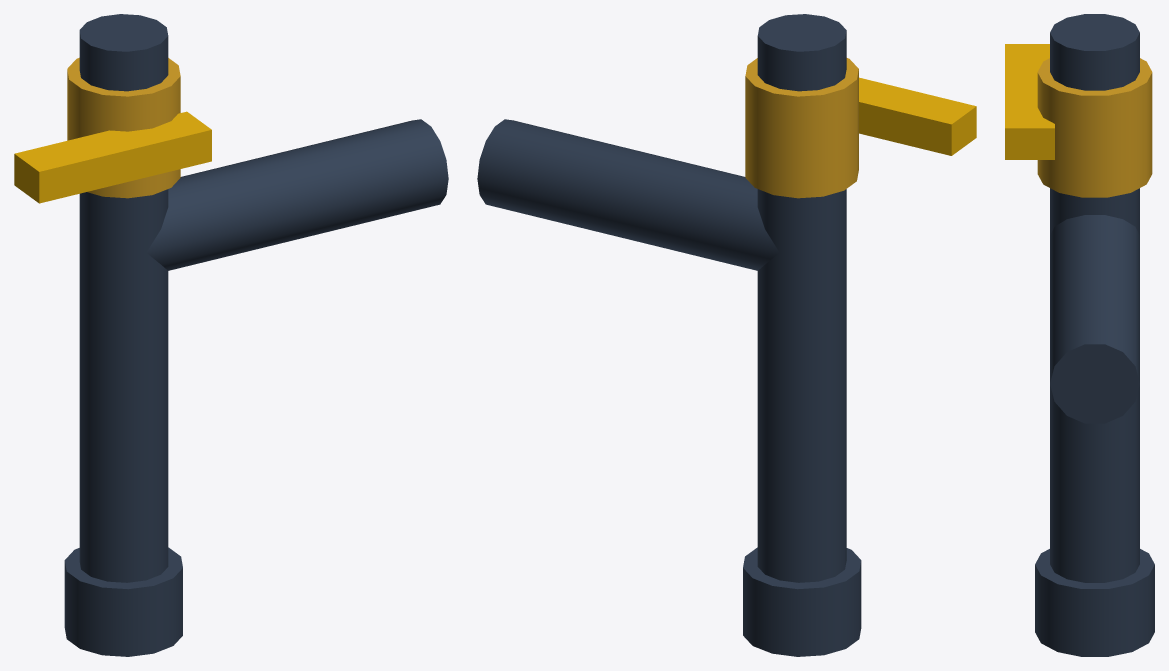
The model's file is valve-gas-drip-leg.glb.
3 renders of one model, left to right at view 1: azimuth 30°, elevation 25°; view 2: azimuth 150°, elevation 25°; view 3: azimuth 270°, elevation 25°, orthographic.
Parts seen in each view (by area): view 1: plumbing-fitting-gas-drip-leg; view 2: plumbing-fitting-gas-drip-leg; view 3: plumbing-fitting-gas-drip-leg.
Boxes of the visible parts, left/top/right/bottom form: plumbing-fitting-gas-drip-leg: left=14, top=14, right=448, bottom=656; plumbing-fitting-gas-drip-leg: left=477, top=14, right=976, bottom=656; plumbing-fitting-gas-drip-leg: left=1005, top=14, right=1154, bottom=656.
Bounding box in the file's own units: 0.2 × 0.265 × 0.06.
